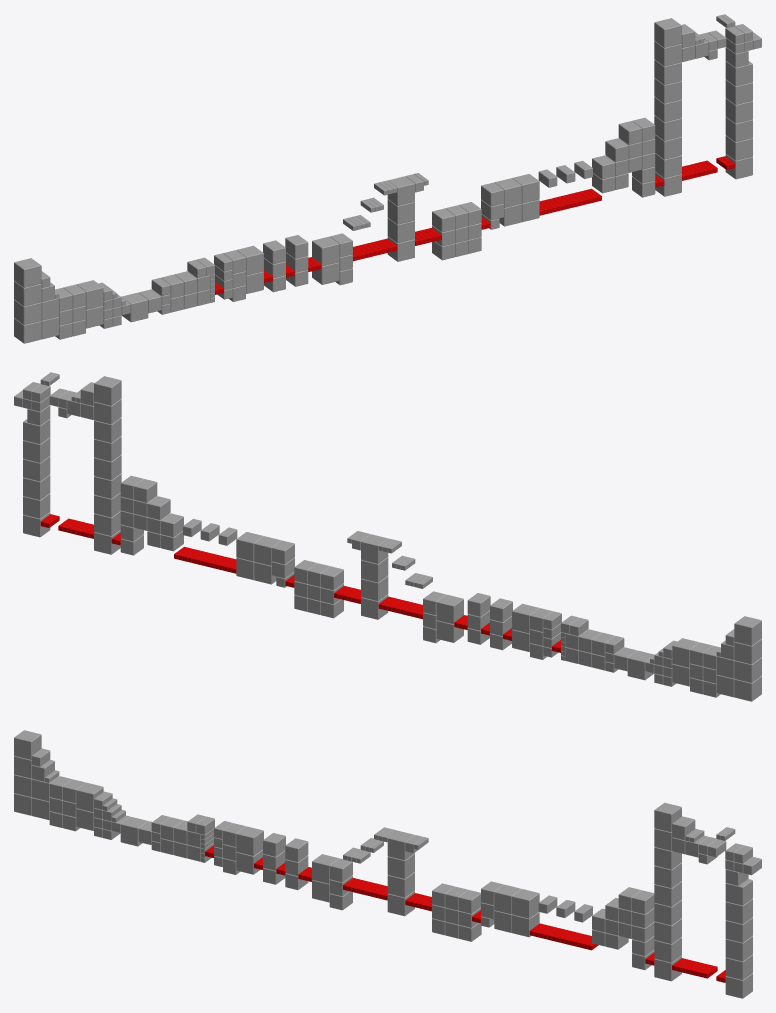
File: mapplaceholder.fbx
The picture shows the model from 3 angles, top to bottom: view 1: azimuth 30°, elevation 25°; view 2: azimuth 150°, elevation 25°; view 3: azimuth 330°, elevation 25°; orthographic projection.
Parts seen in each view (by area): view 1: polySurface9, pasted__pCube287, polySurface12, pasted__pCube212, pasted__pCube235, pasted__pCube175; view 2: polySurface9, pasted__pCube287, polySurface12, pasted__pCube212, pasted__pCube235, pasted__pCube175; view 3: polySurface9, pasted__pCube203, pasted__pCube258, polySurface12, pasted__pCube287, pasted__pCube235, pasted__pCube306, pasted__pCube162, pasted__pCube175, pasted__pCube237, pasted__pCube310, pasted__pCube279 (+15 smaller).
Part boxes in pixels (x1,y1,x2,y2): polySurface9: (14, 39, 752, 343); pasted__pCube287: (654, 18, 681, 47); polySurface12: (14, 258, 41, 287); pasted__pCube212: (312, 236, 339, 266); pasted__pCube235: (387, 176, 414, 205); pasted__pCube175: (121, 292, 148, 322); polySurface9: (23, 397, 761, 701); pasted__pCube287: (94, 376, 121, 405); polySurface12: (734, 616, 761, 645); pasted__pCube212: (436, 594, 463, 624); pasted__pCube235: (361, 534, 388, 563); pasted__pCube175: (627, 650, 654, 680); polySurface9: (14, 756, 752, 970); pasted__pCube203: (236, 826, 263, 855); pasted__pCube258: (512, 889, 539, 918); polySurface12: (14, 730, 41, 759); pasted__pCube287: (654, 802, 681, 832); pasted__pCube235: (387, 830, 414, 860); pasted__pCube306: (725, 879, 752, 905); pasted__pCube162: (76, 782, 103, 812); pasted__pCube175: (120, 817, 147, 846); pasted__pCube237: (387, 872, 414, 897); pasted__pCube310: (725, 917, 752, 942); pasted__pCube279: (654, 881, 681, 906).
Bounding box in the file's own units: 166 × 38 × 4.
